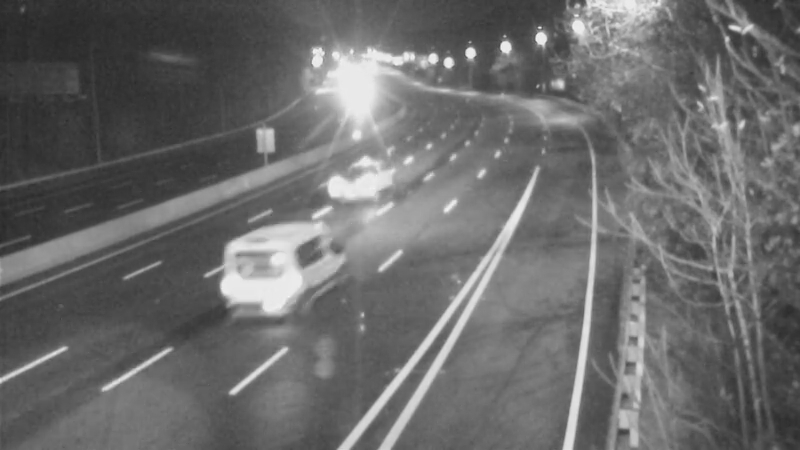vehicle: (329, 136, 409, 216), (225, 234, 305, 314)
